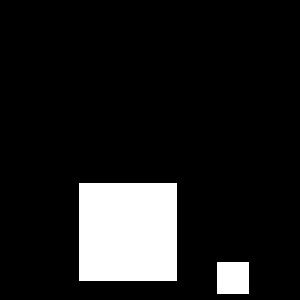circle: (79, 183, 177, 281), (217, 262, 249, 294)
